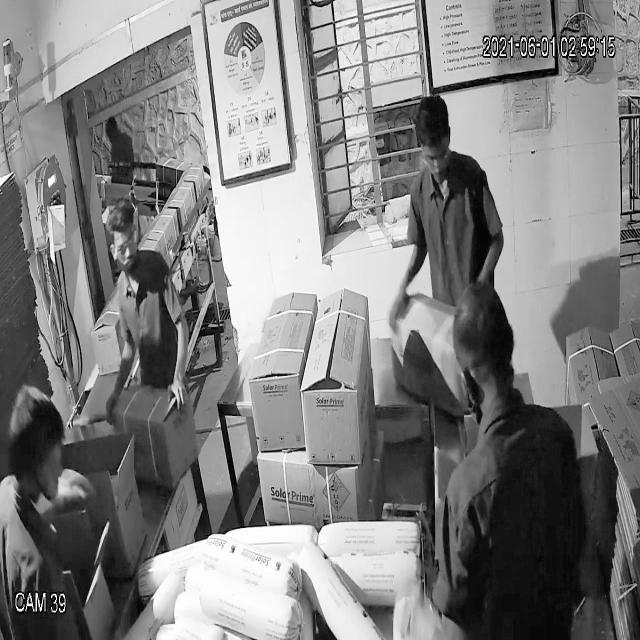hairnet: (27, 461, 70, 521), (110, 246, 146, 273)
